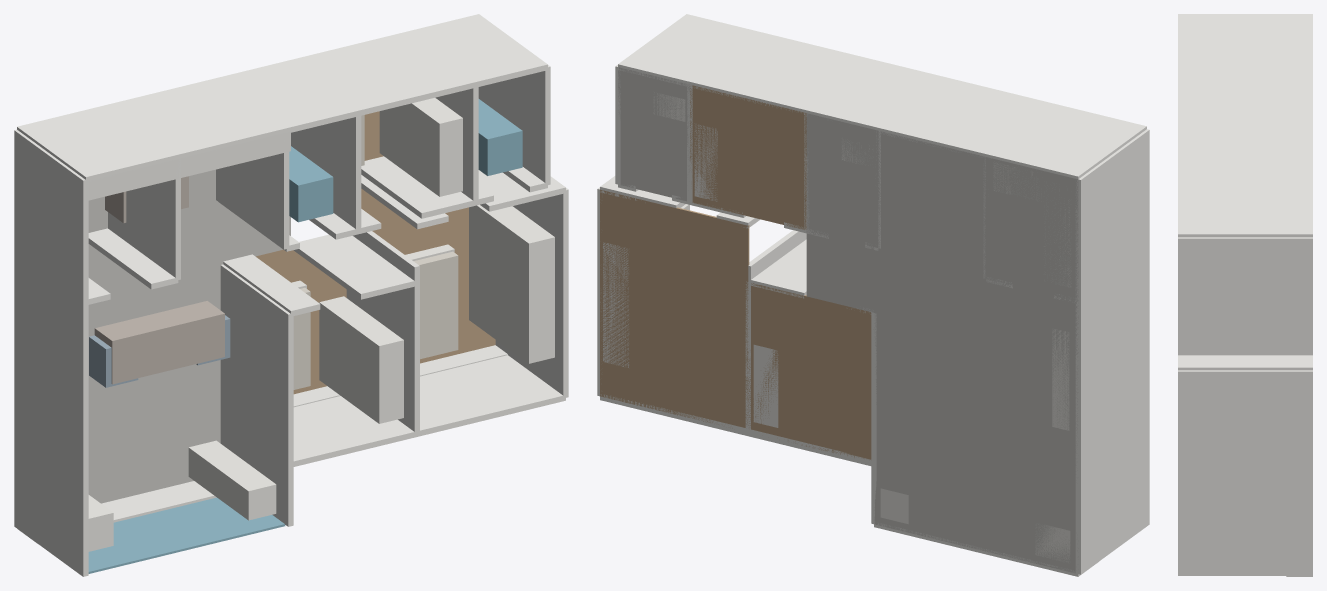
The model's file is House_Mobile.glb.
3 renders of one model, left to right at view 1: azimuth 30°, elevation 25°; view 2: azimuth 150°, elevation 25°; view 3: azimuth 270°, elevation 25°, orthographic. The views are drawn at different scales.
Visible parts, largest first — view 1: North_main, West_main, Living_Dining_existing_tile, South_bedrooms, MasterWardrobe_parametric, Living_secondary, SecondaryWardrobe_parametric, Sofa_Straight_OPTION_2500, Balcony_glass, Former_Balcony_existing_tile, NorthWardrobe_parametric, Master_Bedroom_new_wood (+31 smaller); view 2: Living_Dining_existing_tile, North_main, Master_Bedroom_new_wood, West_main, Secondary_Bedroom_new_wood, North_Bedroom_new_wood, Former_Balcony_existing_tile, Kitchen_existing_tile, Public_Bath_existing_tile, Master_Bath_existing_tile, Balcony_west, Hall_existing_tile (+16 smaller); view 3: North_main, East_master, East_service, Master_north_right, MasterBath_south_R, South_bedrooms.
Part boxes in pixels (left/top/right/bottom): North_main: left=17, top=14, right=547, bottom=181; West_main: left=14, top=129, right=88, bottom=515; Living_Dining_existing_tile: left=88, top=169, right=223, bottom=447; South_bedrooms: left=291, top=355, right=565, bottom=467; MasterWardrobe_parametric: left=469, top=204, right=554, bottom=363; Living_secondary: left=220, top=264, right=293, bottom=465; SecondaryWardrobe_parametric: left=319, top=296, right=403, bottom=423; Sofa_Straight_OPTION_2500: left=94, top=301, right=224, bottom=384; Balcony_glass: left=88, top=497, right=285, bottom=573; Former_Balcony_existing_tile: left=88, top=416, right=220, bottom=503; NorthWardrobe_parametric: left=379, top=98, right=462, bottom=196; Master_Bedroom_new_wood: left=361, top=189, right=495, bottom=363; Living_Dining_existing_tile: left=874, top=130, right=1078, bottom=512; North_main: left=618, top=14, right=1146, bottom=179; Master_Bedroom_new_wood: left=600, top=189, right=749, bottom=428; West_main: left=1075, top=129, right=1149, bottom=513; Secondary_Bedroom_new_wood: left=748, top=283, right=871, bottom=459; North_Bedroom_new_wood: left=690, top=85, right=806, bottom=229; Former_Balcony_existing_tile: left=874, top=464, right=1078, bottom=573; Kitchen_existing_tile: left=986, top=157, right=1078, bottom=300; Public_Bath_existing_tile: left=806, top=113, right=878, bottom=247; Master_Bath_existing_tile: left=618, top=67, right=689, bottom=201; Balcony_west: left=1075, top=463, right=1149, bottom=574; Hall_existing_tile: left=806, top=231, right=873, bottom=312; North_main: left=1178, top=14, right=1312, bottom=237; East_master: left=1178, top=370, right=1312, bottom=574; East_service: left=1178, top=237, right=1312, bottom=353; Master_north_right: left=1178, top=355, right=1312, bottom=370; MasterBath_south_R: left=1178, top=353, right=1312, bottom=355; South_bedrooms: left=1178, top=574, right=1312, bottom=575.
Bounding box in the file's own units: 10.77 × 8.52 × 2.65.
